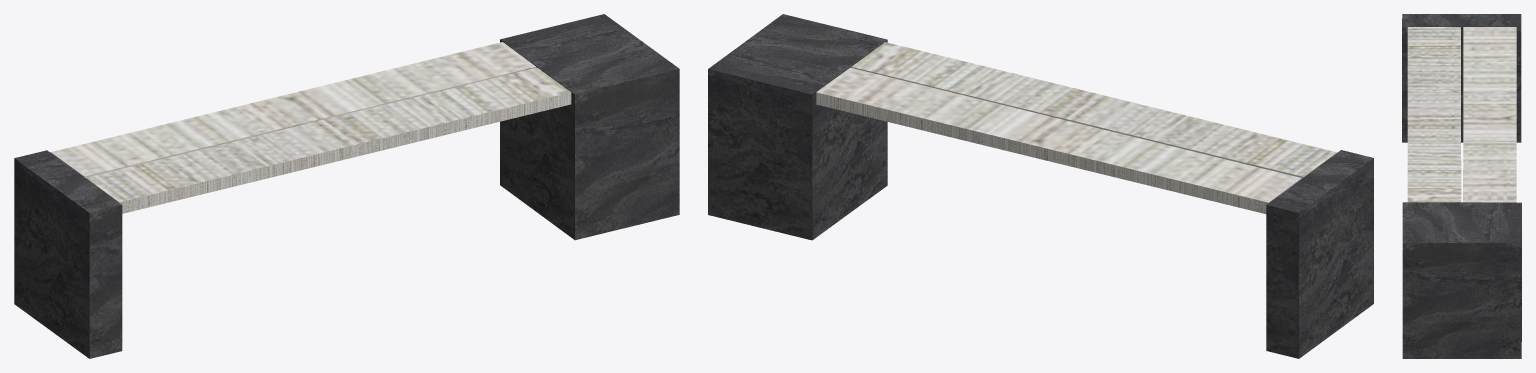
File: banca4.obj
3 renders of one model, left to right at view 1: azimuth 30°, elevation 25°; view 2: azimuth 150°, elevation 25°; view 3: azimuth 270°, elevation 25°, orthographic. The views are drawn at different scales.
Visible parts, largest first — view 1: banca; view 2: banca; view 3: banca.
Part boxes in pixels (x1=…): banca: x1=14, y1=14, x2=679, y2=358; banca: x1=708, y1=14, x2=1373, y2=358; banca: x1=1402, y1=14, x2=1521, y2=358.
Bounding box in the file's own units: 70.04 × 16.54 × 15.49.
2 materials, 2 textured.
